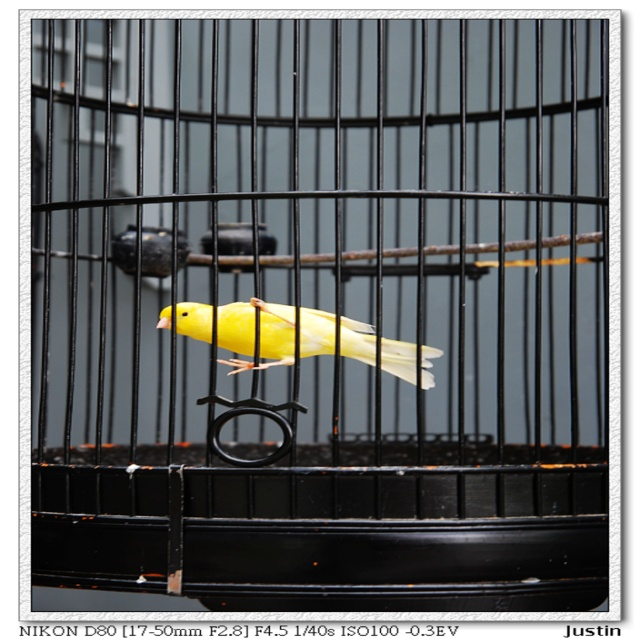Canary: (154, 298, 450, 389)
